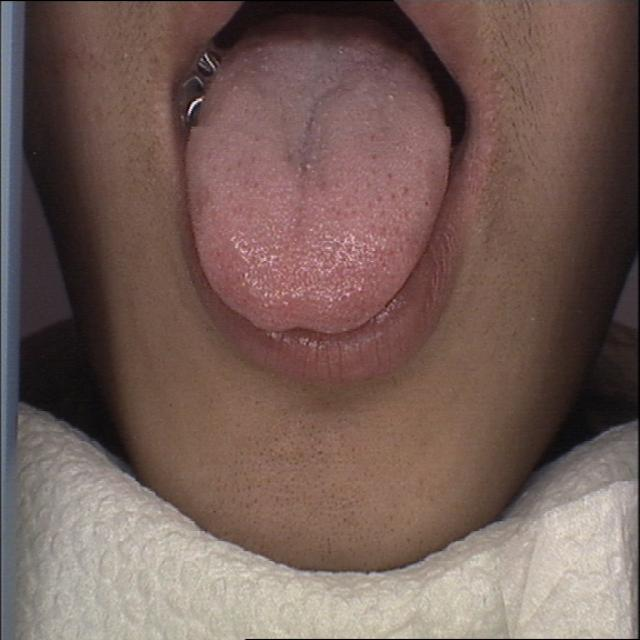tongue: (177, 34, 453, 337)
